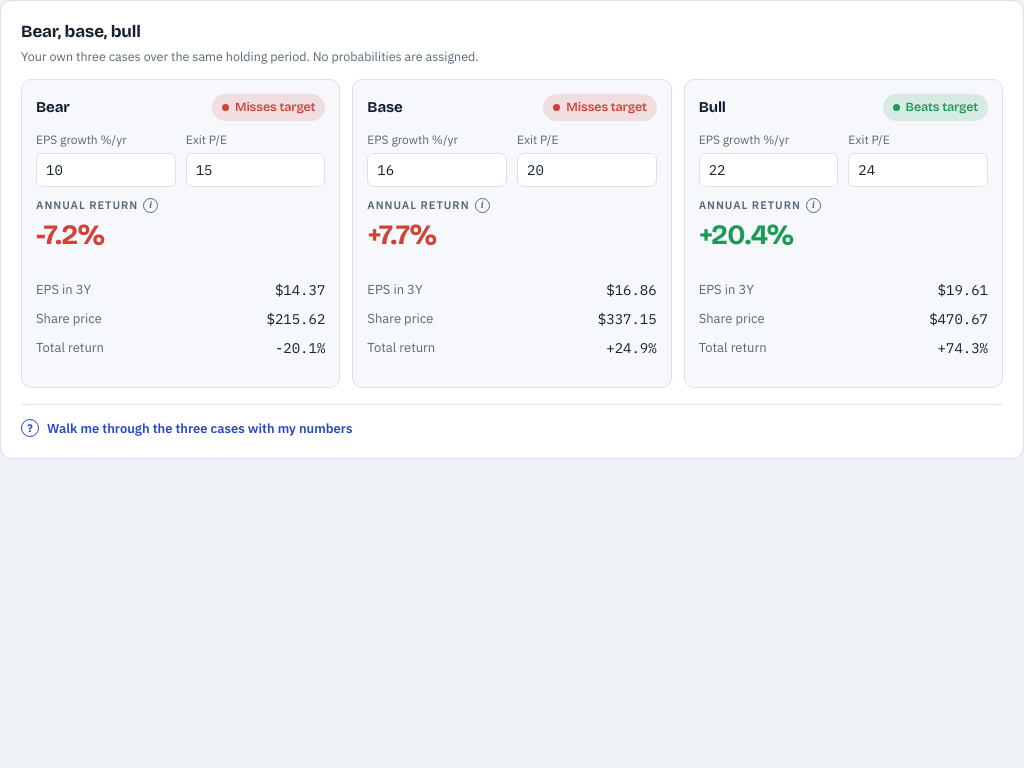
Test: the walkthrough of the three cases › names the cases that meet the target
Click the button "Walk me through the three cases with my numbers".
click(187, 428)  # box x1=21 y1=416 x2=352 y2=440
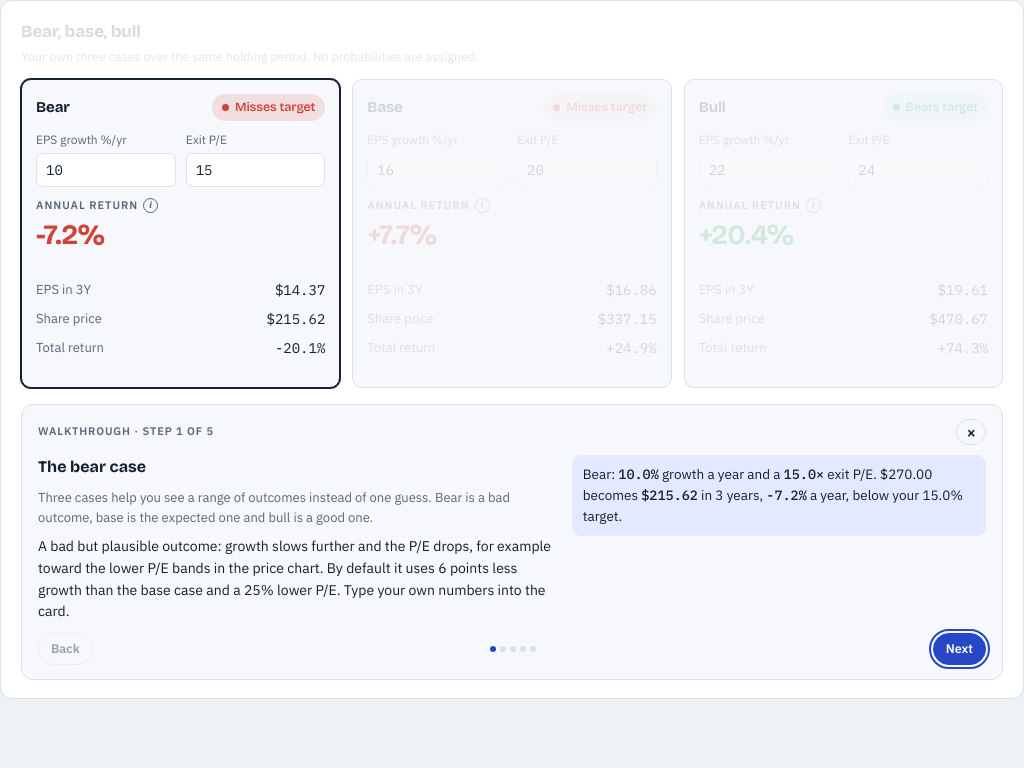
Click the button "Next".
click(959, 649)  # box x1=933 y1=633 x2=986 y2=664
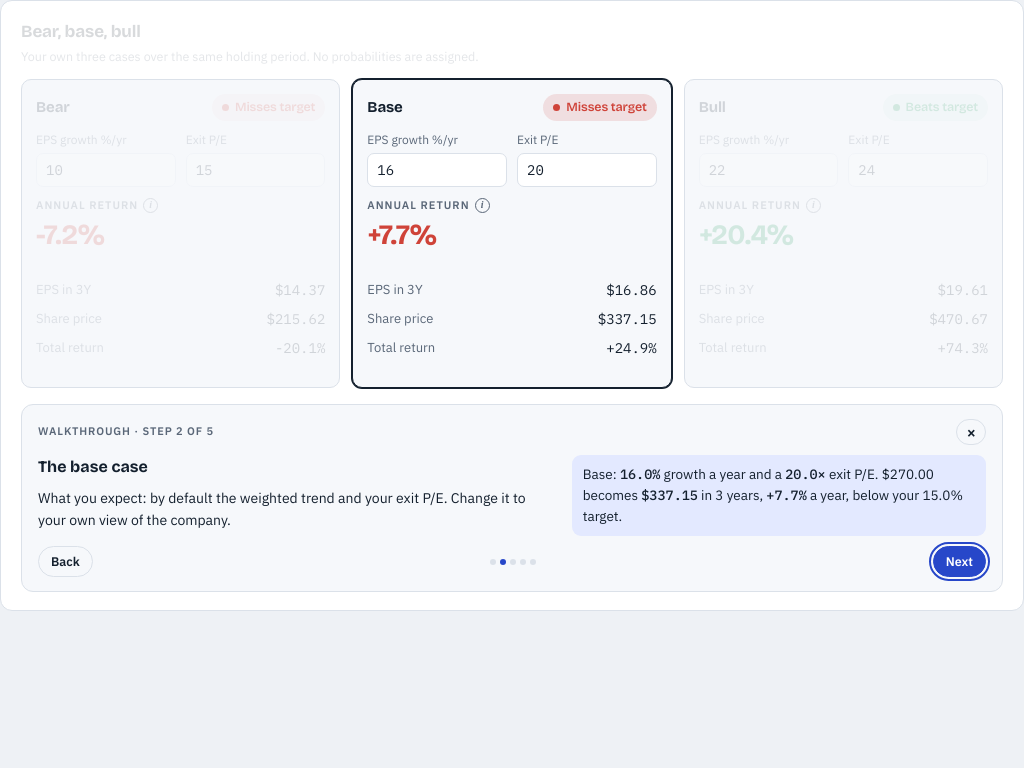
Click the button "Next".
click(959, 562)  # box x1=933 y1=546 x2=986 y2=578
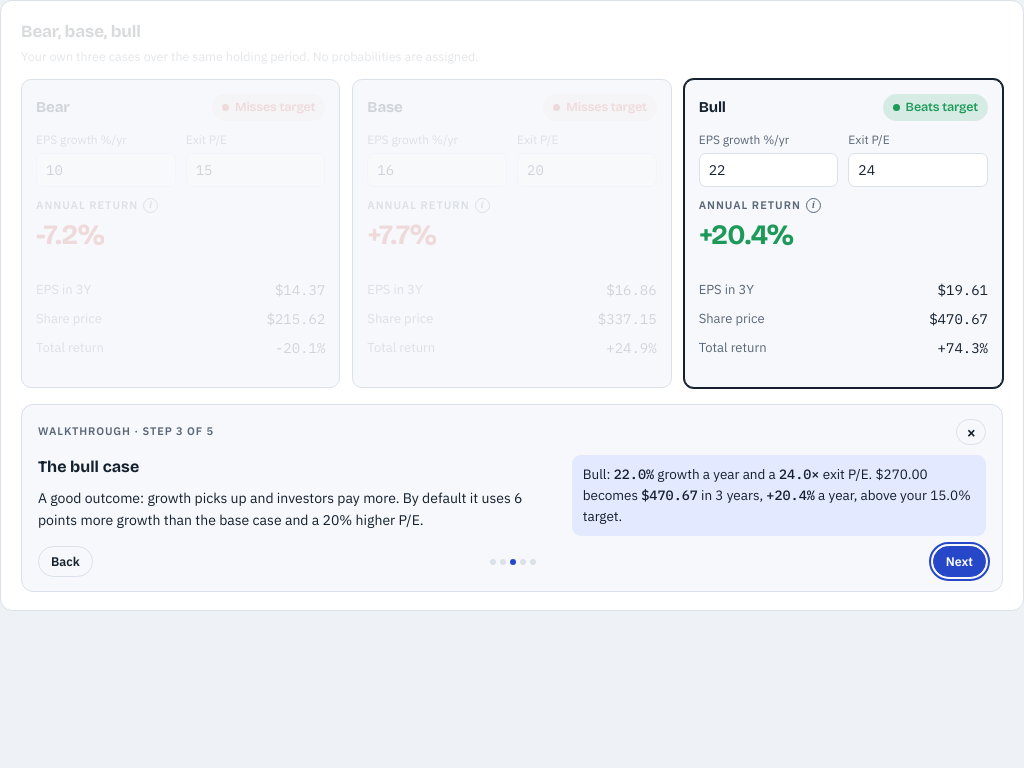
Click the button "Next".
click(959, 562)  # box x1=933 y1=546 x2=986 y2=578
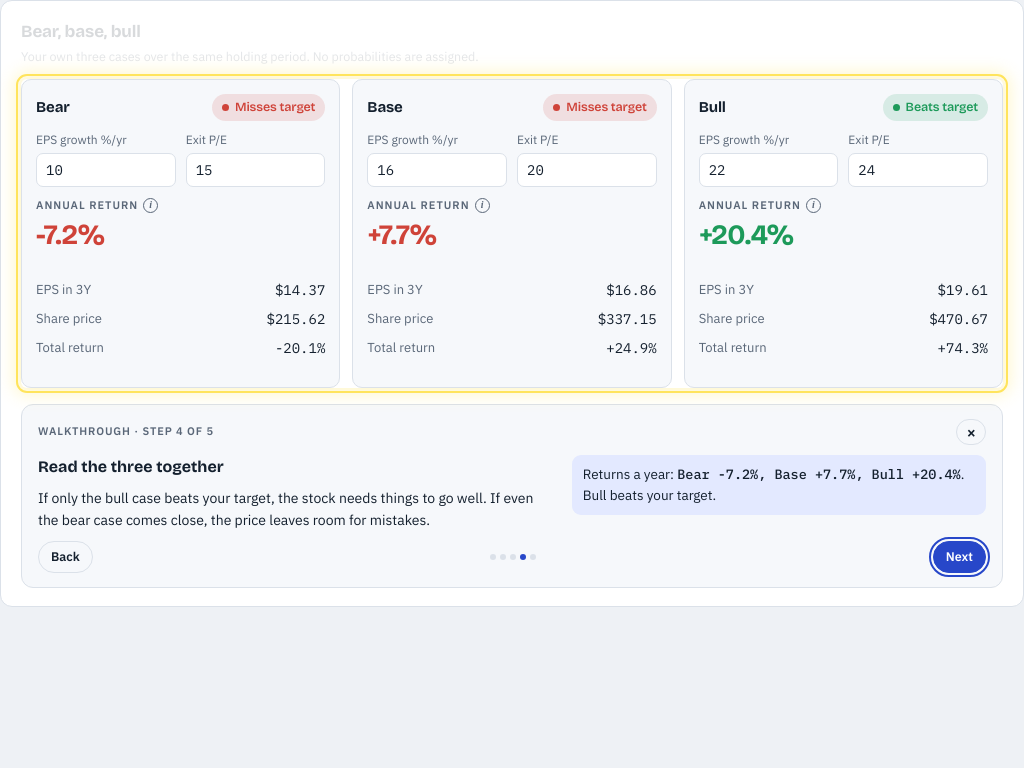
expect the element named "Walkthrough of the bear, base and bull cases" shows "Bull beats your target.": met, box x1=583 y1=486 x2=716 y2=504
